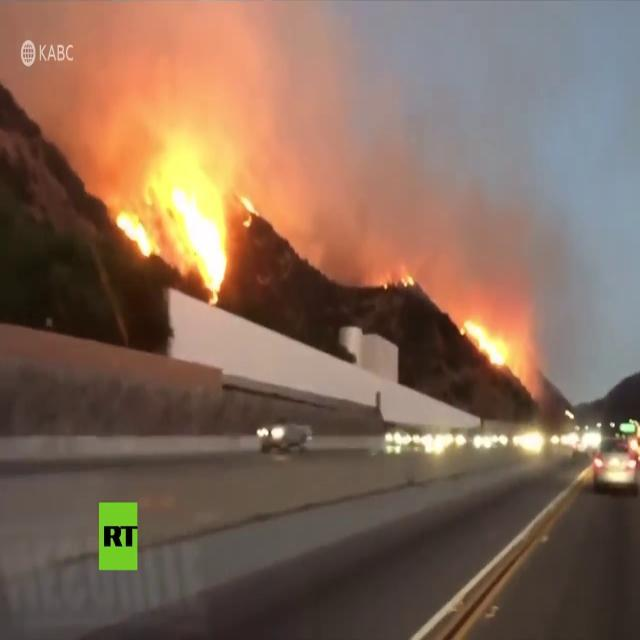Fire: (117, 174, 226, 310), (459, 321, 509, 366), (238, 194, 254, 228), (402, 274, 414, 288)
Smoke: (3, 6, 576, 404)
